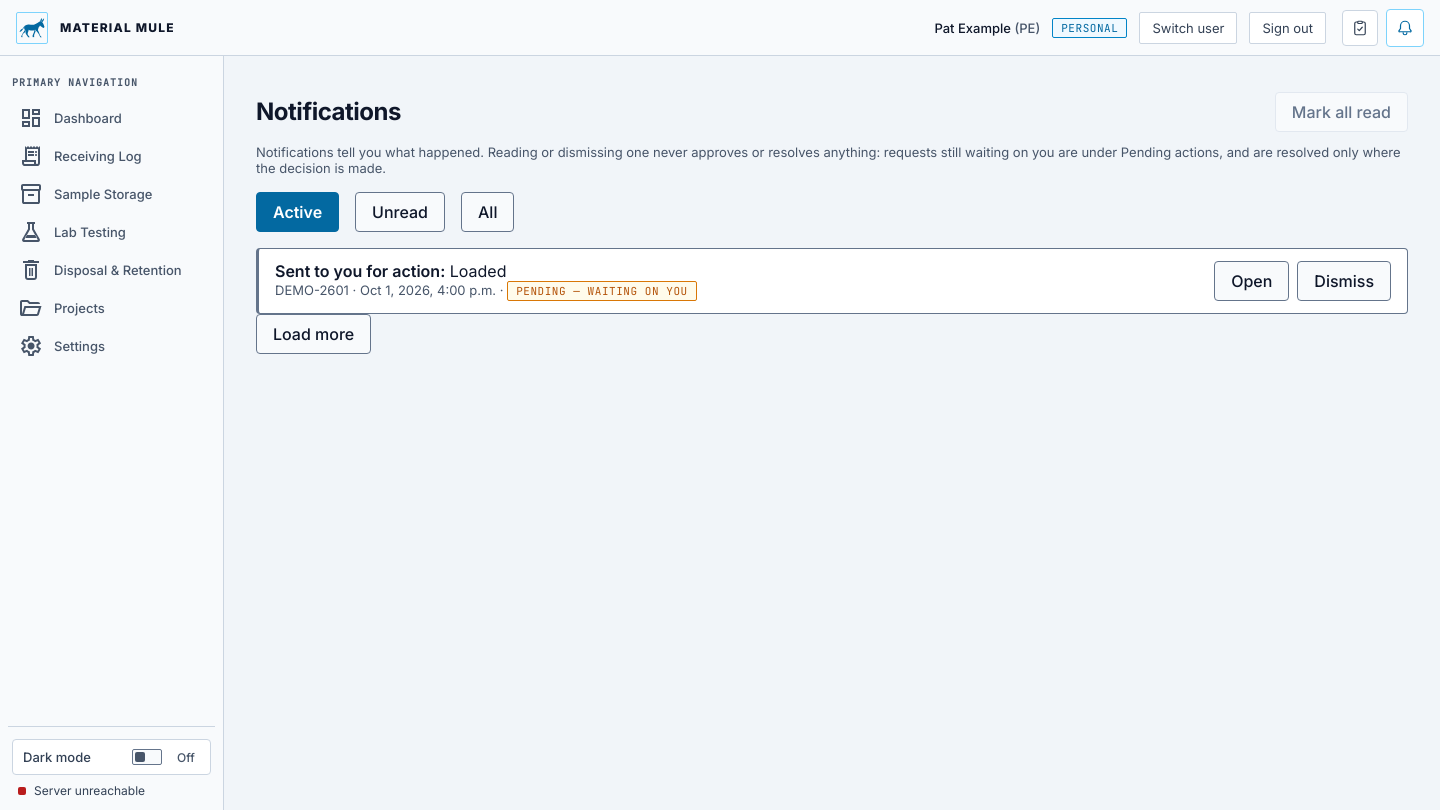
Test: Notification center paging (MM-T91 review) › a failed Load more keeps the rows and retries the same page
The width and height of the screenshot is (1440, 810).
Expected: the list item "Loaded" is shown, [256,248,1408,314]
Click the button "Load more". click: click(314, 334)
box: [256,314,371,354]
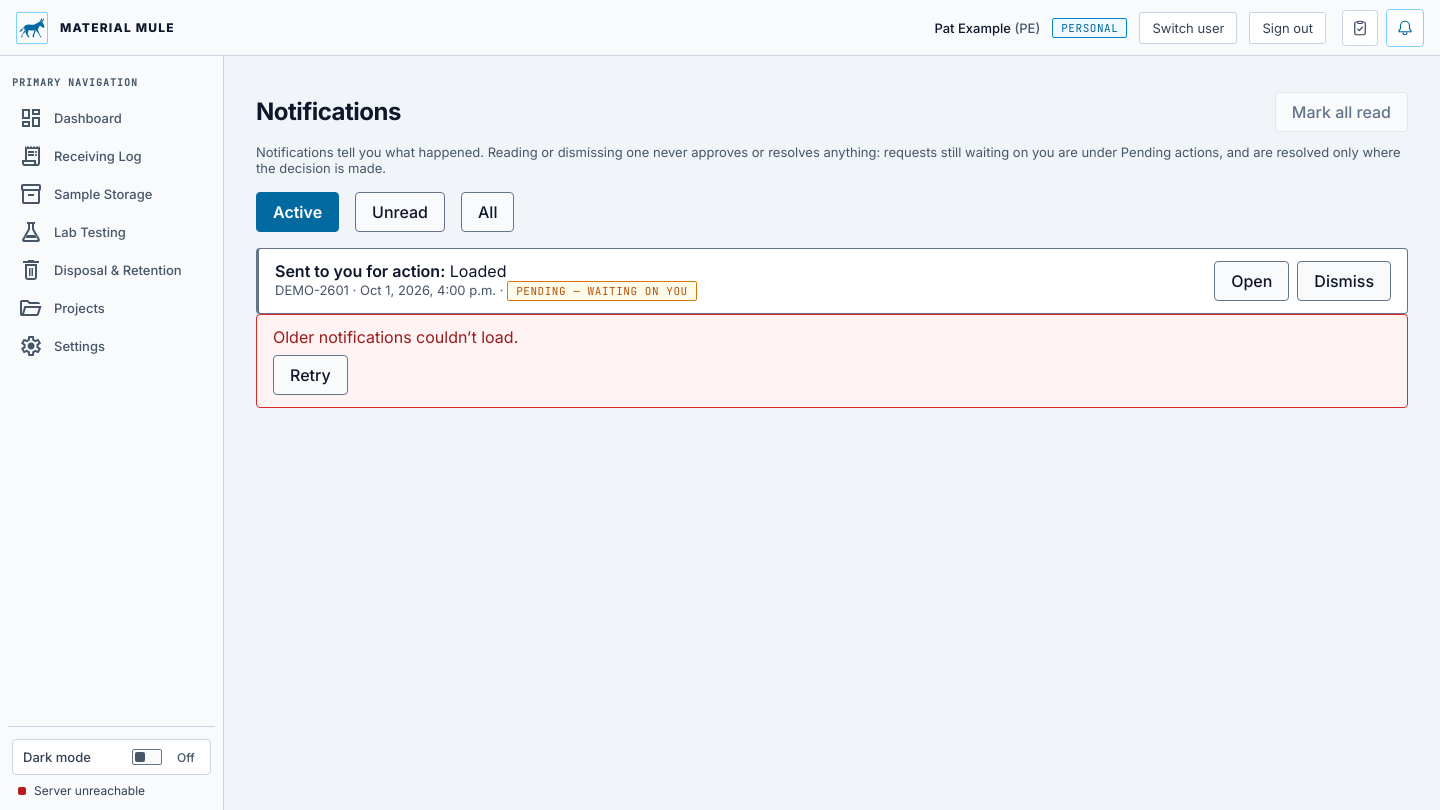
Expected: the list item "Loaded" is shown, [256,248,1408,314]
Now the message shows "Older notifications couldn’t load.", box [273,327,518,347]
Click the button "Retry". click: click(310, 375)
box: [273,355,348,395]
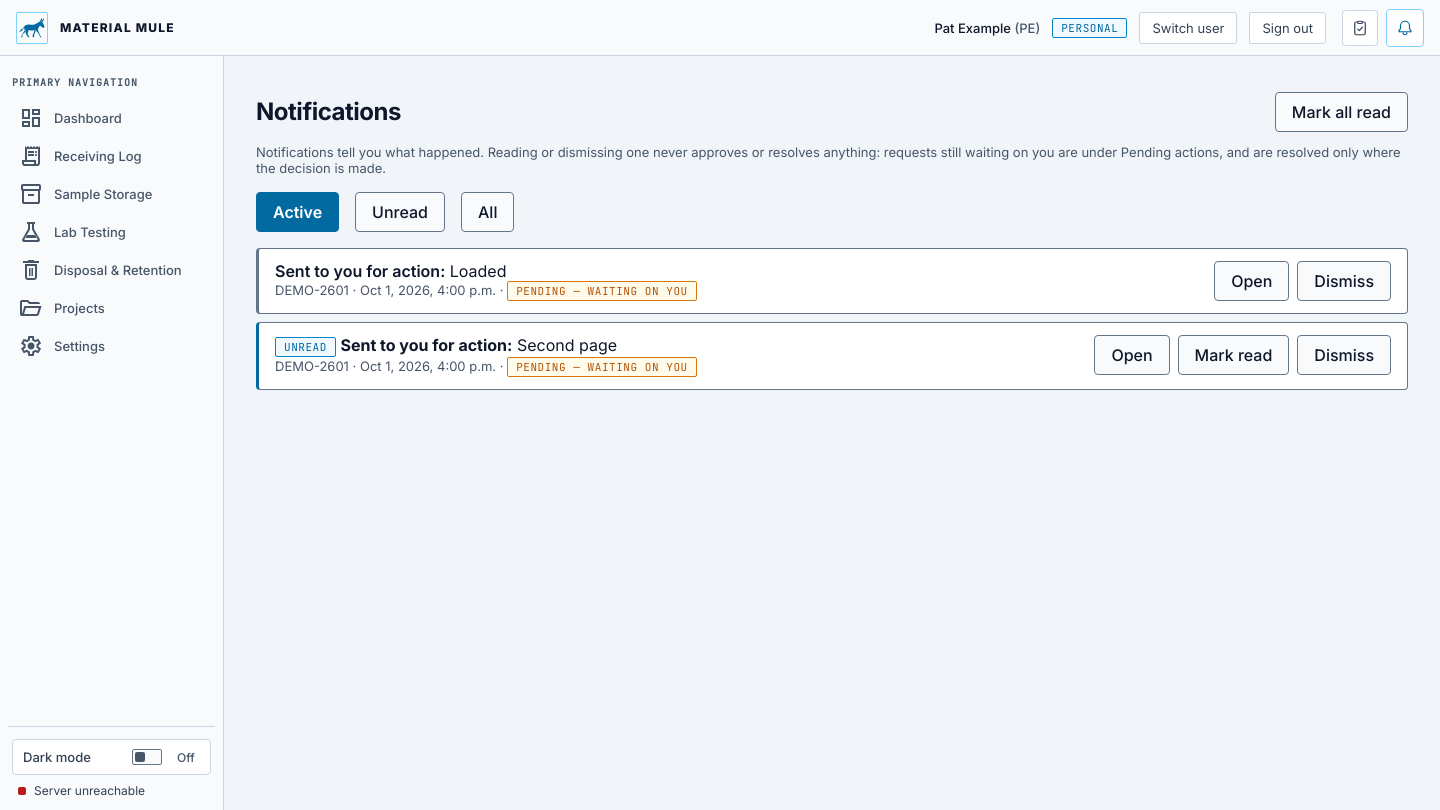
Now the list item "Second page" is shown, box [256,322,1408,390]
Now the message "Older notifications couldn’t load. Retry" is gone
